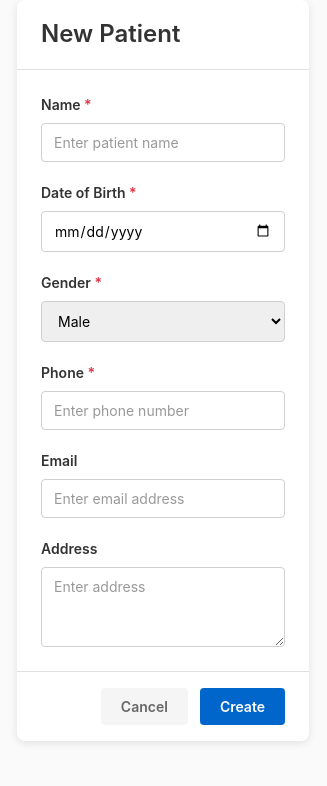
Scenario: PatientForm Component › Form Submission › should handle server-side phone duplicate error
In the field labelled "Name *": (163, 142) [41,123,285,162], type "Jane Smith"
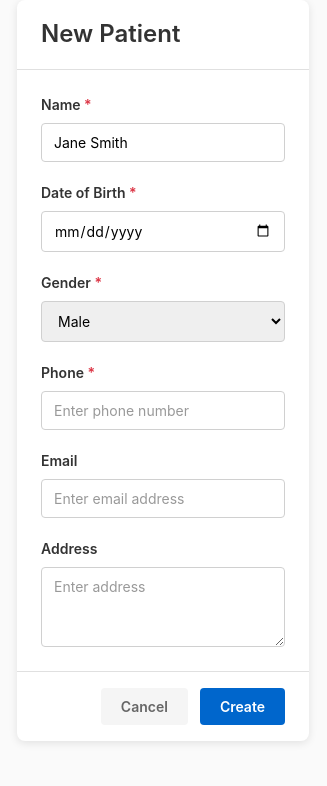
In the date field labelled "Date of Birth *": (163, 231) [41,211,285,252], type "1995-06-20"
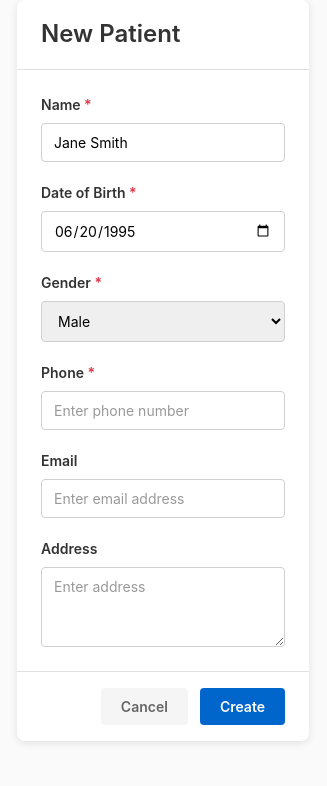
In the field labelled "Phone *": (163, 410) [41,391,285,430], type "555-010-1010"
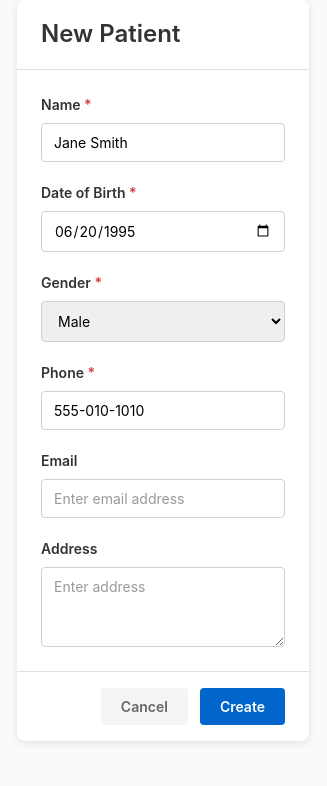
Click the button "Create": (242, 706) [200,688,285,725]
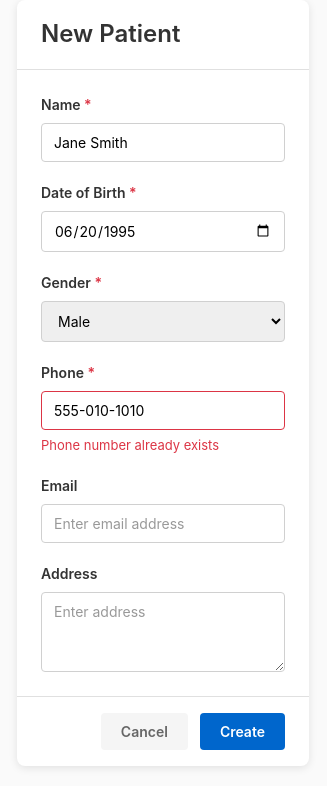
Check: the text "Phone number already exists" is shown, box [41,437,219,453]
